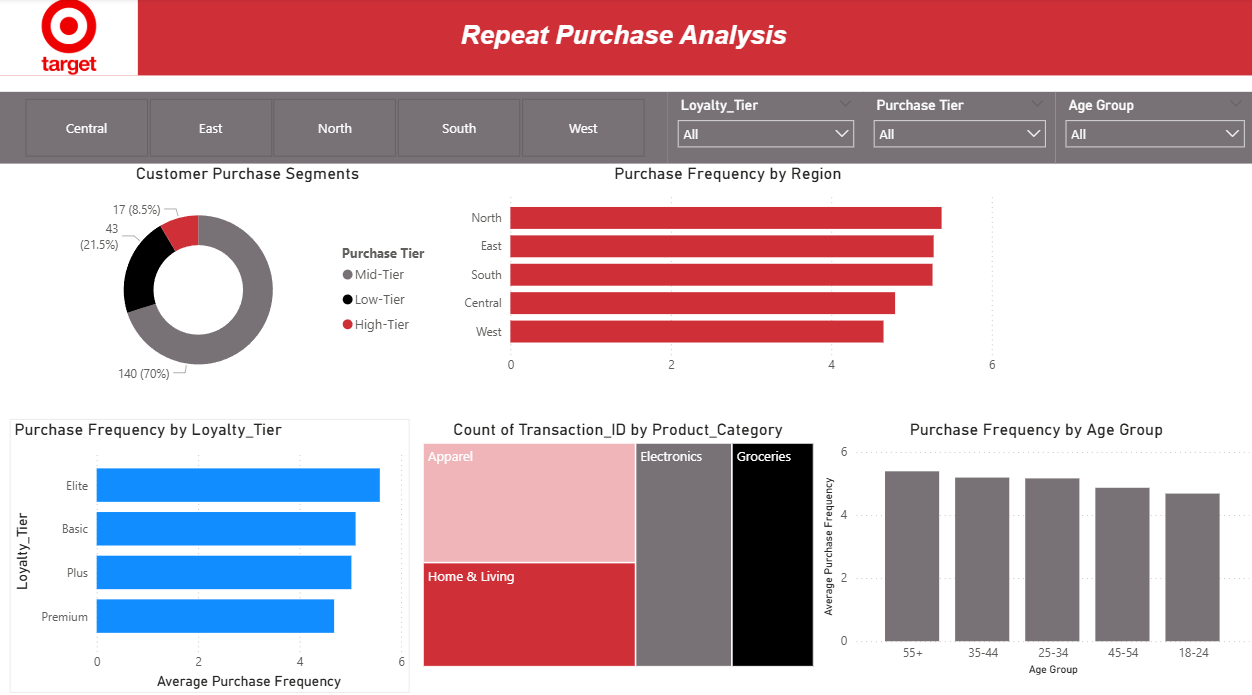

Layout of this report page (visuals, bound fields, positions):
{"tool":"powerbi","page":{"name":"Repeat Purchase","canvas":[1280,720],"ordinal":1},"visuals":[{"type":"donutChart","title":"Customer Purchase Segments","fields":{"Category":["Customer_Demographics.Purchase Tier"],"Y":["Count(Customer_Demographics.Customer_ID)"]},"box":[50.7,168.9,403.9,237.9],"z":0},{"type":"clusteredBarChart","title":" Purchase Frequency by Region","fields":{"Category":["Customer_Demographics.Region"],"Y":["Customer_Transactions.Average Purchase Frequency"]},"box":[464.4,168.9,555.9,223.8],"z":1000},{"type":"clusteredColumnChart","title":"Purchase Frequency by Age Group","fields":{"Category":["Customer_Demographics.Age Group"],"Y":["Customer_Transactions.Average Purchase Frequency"]},"box":[834.6,429.3,444.7,266],"z":2000},{"type":"clusteredBarChart","title":"Purchase Frequency by Loyalty_Tier","fields":{"Category":["Loyalty_Program.Loyalty_Tier"],"Y":["Customer_Transactions.Average Purchase Frequency"]},"box":[9.9,429.3,408.1,280.1],"z":3000},{"type":"treemap","fields":{"Group":["Customer_Transactions.Product_Category"],"Values":["CountNonNull(Customer_Transactions.Transaction_ID)"]},"box":[426.4,429.3,408.1,257.6],"z":4000},{"type":"slicer","fields":{"Values":["Customer_Demographics.Region"]},"box":[0,95.7,681.2,73.2],"z":5000},{"type":"slicer","fields":{"Values":["Customer_Demographics.Age Group"]},"box":[1076.7,95.7,202.7,73.2],"z":6000},{"type":"slicer","fields":{"Values":["Customer_Demographics.Purchase Tier"]},"box":[881,95.7,195.6,73.2],"z":7000},{"type":"slicer","fields":{"Values":["Loyalty_Program.Loyalty_Tier"]},"box":[681.2,95.7,199.9,73.2],"z":8000},{"type":"textbox","box":[0,0,1279.3,78.8],"z":9000},{"type":"image","box":[0,0,140.7,78.8],"z":10000}]}

Visuals, with their boxes in screenshot pixels (x1, y1, x2, y2), scaled from the page's 1280x720 canvas onto the 1252x695 screenshot:
"Customer Purchase Segments" donutChart: <bbox>50, 163, 445, 393</bbox>
" Purchase Frequency by Region" clusteredBarChart: <bbox>454, 163, 998, 379</bbox>
"Purchase Frequency by Age Group" clusteredColumnChart: <bbox>816, 414, 1251, 671</bbox>
"Purchase Frequency by Loyalty_Tier" clusteredBarChart: <bbox>10, 414, 409, 685</bbox>
treemap - Customer_Transactions.Product_Category x CountNonNull(Customer_Transactions.Transaction_ID): <bbox>417, 414, 816, 663</bbox>
slicer - Customer_Demographics.Region: <bbox>0, 92, 666, 163</bbox>
slicer - Customer_Demographics.Age Group: <bbox>1053, 92, 1251, 163</bbox>
slicer - Customer_Demographics.Purchase Tier: <bbox>862, 92, 1053, 163</bbox>
slicer - Loyalty_Program.Loyalty_Tier: <bbox>666, 92, 862, 163</bbox>
textbox: <bbox>0, 0, 1251, 76</bbox>
image: <bbox>0, 0, 138, 76</bbox>
